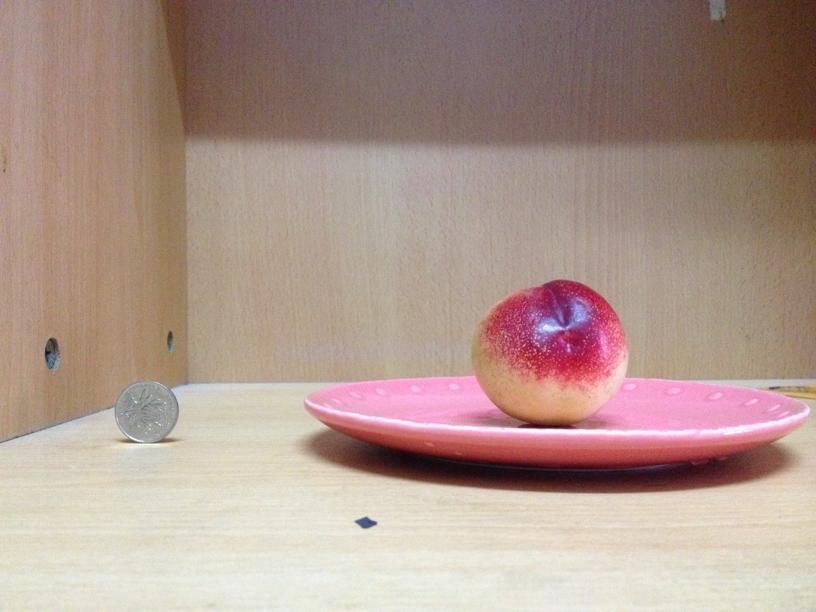coin: (111, 381, 181, 441)
peach: (472, 279, 631, 425)
